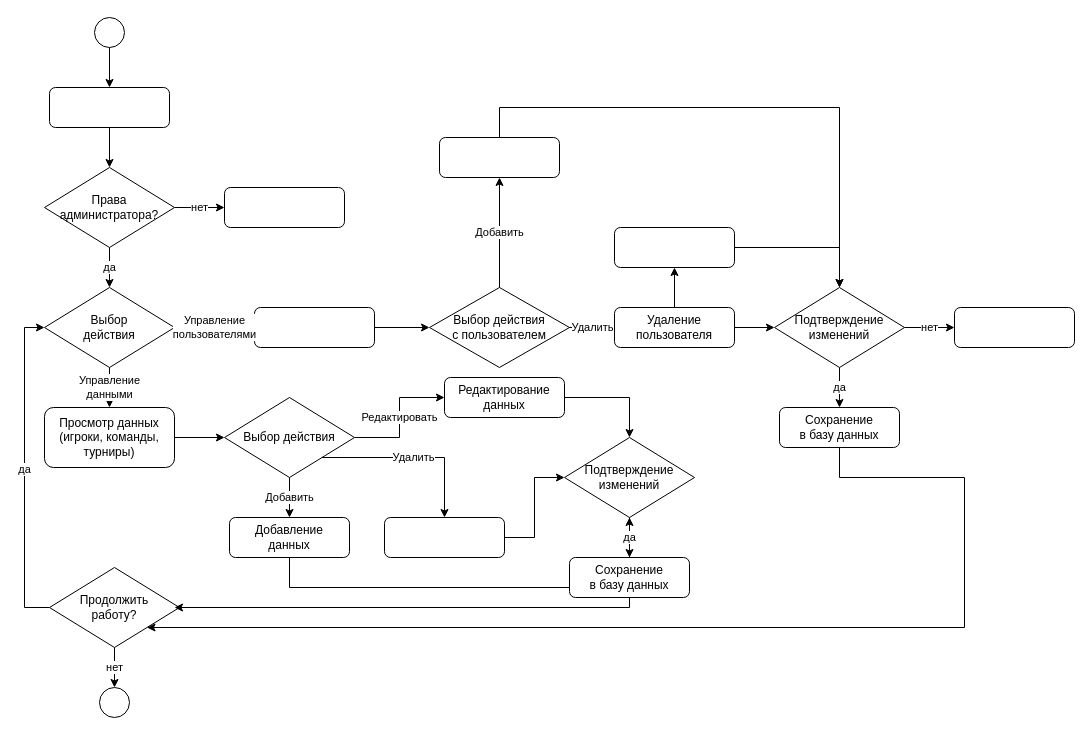
This 1092x735 diagram has some shape labels left out. The shapes that lost their labels are listed below. From the top down, each one's centre as x and y in pixels, then its label:
At (109,107): "Авторизация".
At (499,157): "Добавление пользователя".
At (284,207): "Отказ в доступе".
At (674,247): "Изменение прав доступа".
At (314,327): "Просмотр пользователей".
At (1014,327): "Отмена".
At (444,537): "Удаление данных".
